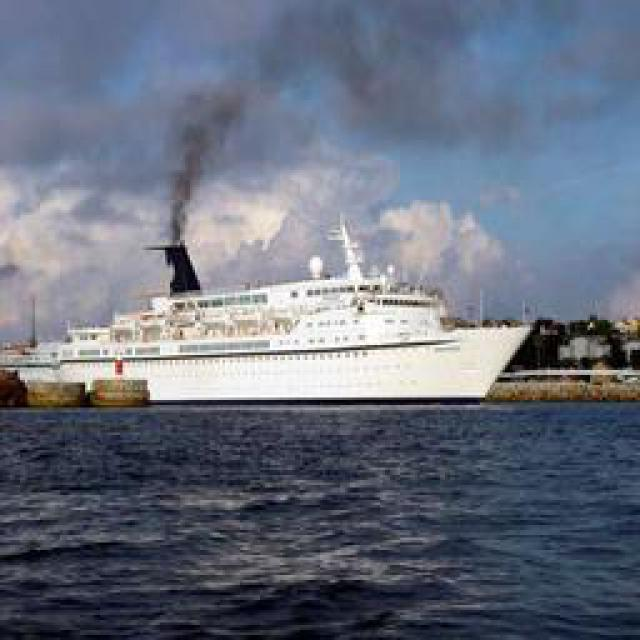Ship: (17, 250, 535, 405)
